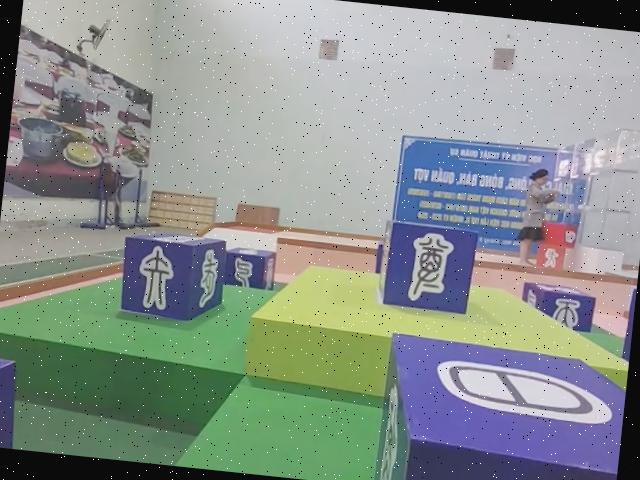R2 Fake Blue: (375, 333, 629, 480), (118, 229, 228, 326), (374, 219, 479, 317), (519, 282, 599, 334), (220, 246, 277, 292)
